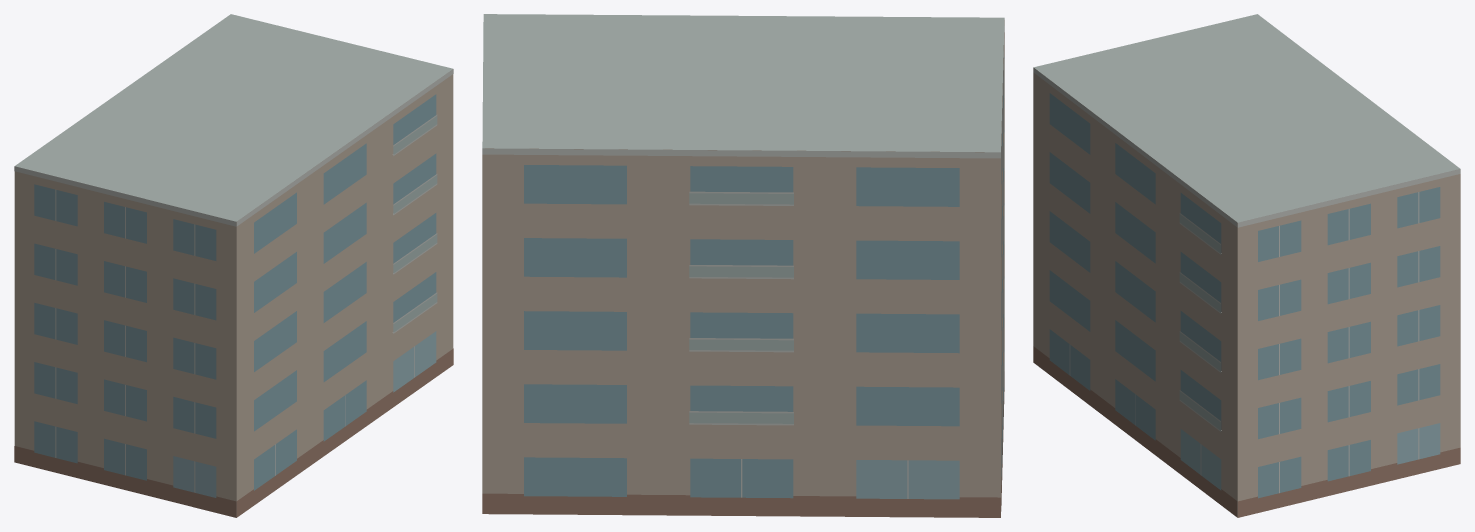
Rendered from survey-upis-32824298.glb.
The picture shows the model from 3 angles, left to right: view 1: azimuth 30°, elevation 25°; view 2: azimuth 150°, elevation 25°; view 3: azimuth 270°, elevation 25°; orthographic projection. The views are drawn at different scales.
Parts seen in each view (by area): view 1: survey-upis-32824298.tmp; view 2: survey-upis-32824298.tmp; view 3: survey-upis-32824298.tmp.
Boxes of the visible parts, bbox=[...] form: survey-upis-32824298.tmp: bbox=[14, 14, 453, 517]; survey-upis-32824298.tmp: bbox=[482, 14, 1004, 517]; survey-upis-32824298.tmp: bbox=[1033, 14, 1460, 517].
Bounding box in the file's own units: 21.77 × 14.35 × 18.83.
